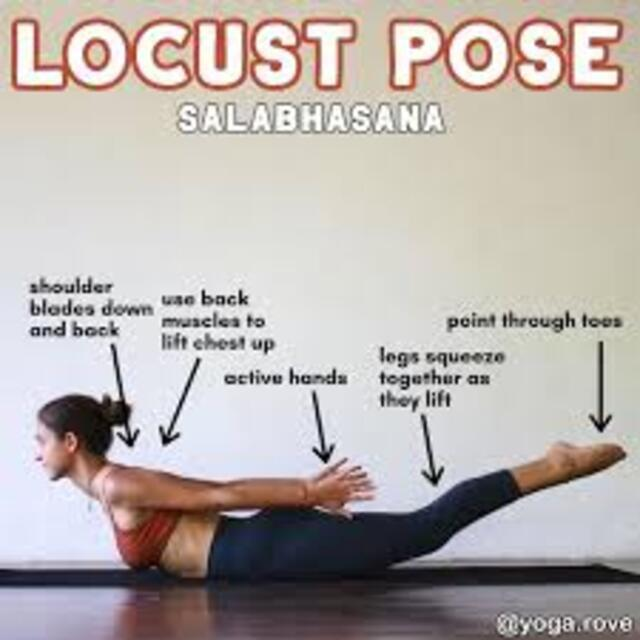Locust_Pose: (31, 391, 629, 584)
